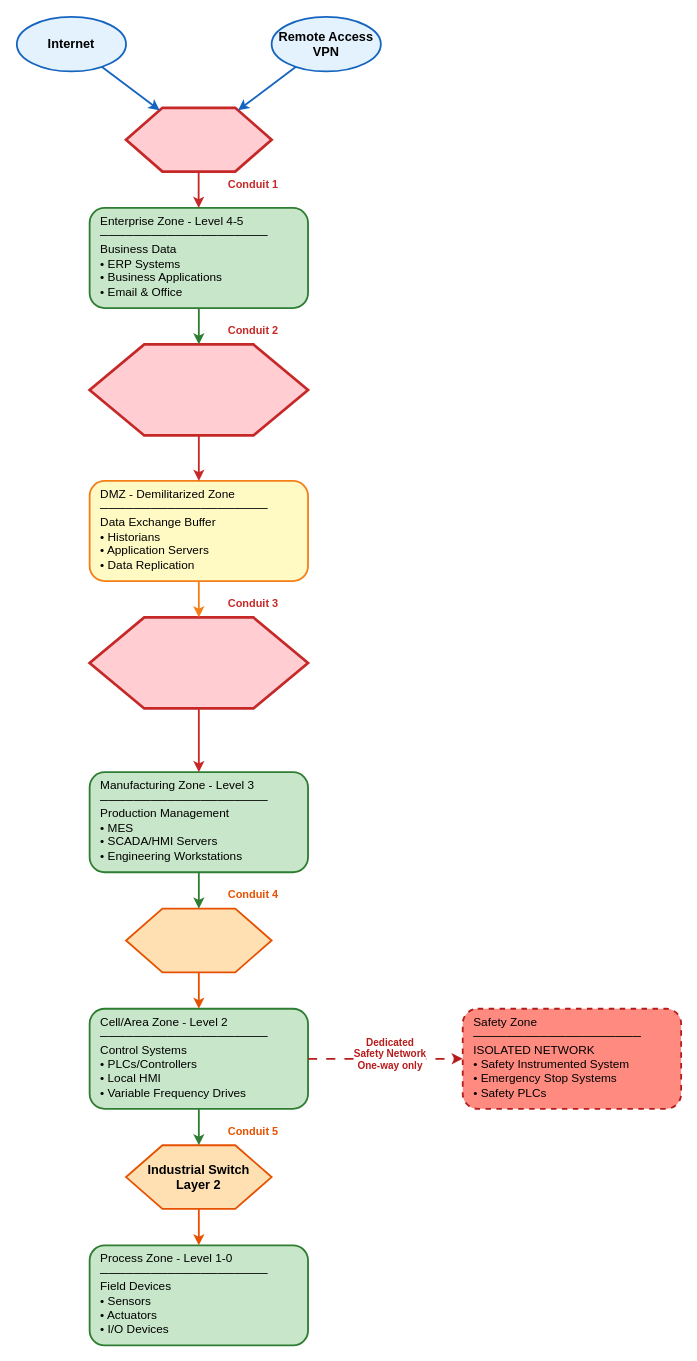
Some shapes in this 697 by 1361 pixel diagram are drawn without their labels. Here are the shapes that lost their labels. From the top down, the centre of each, then its label:
At point (198, 139): "Enterprise Firewall".
At point (198, 389): "Industrial Firewall 1 + IDS/IPS".
At point (198, 662): "Industrial Firewall 2 + IDS/IPS".
At point (198, 940): "Industrial Switch Layer 3".
